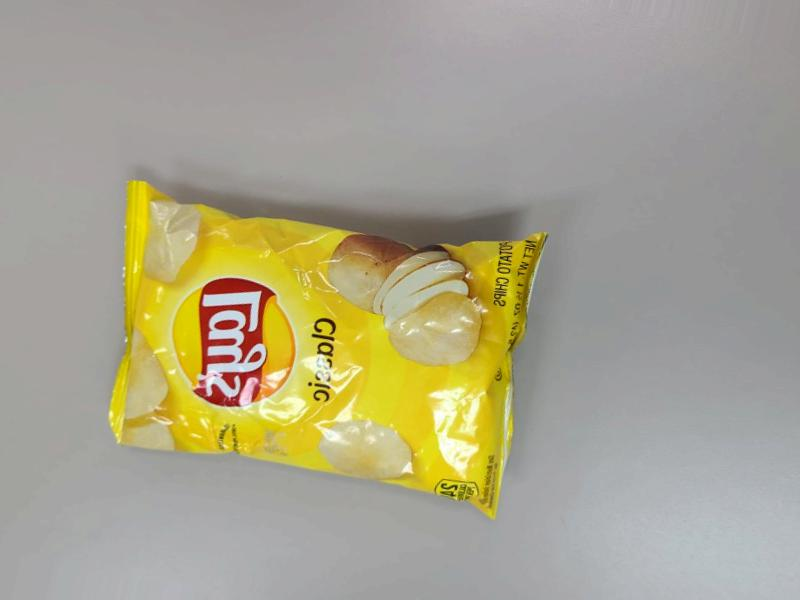lays: (141, 173, 558, 514)
